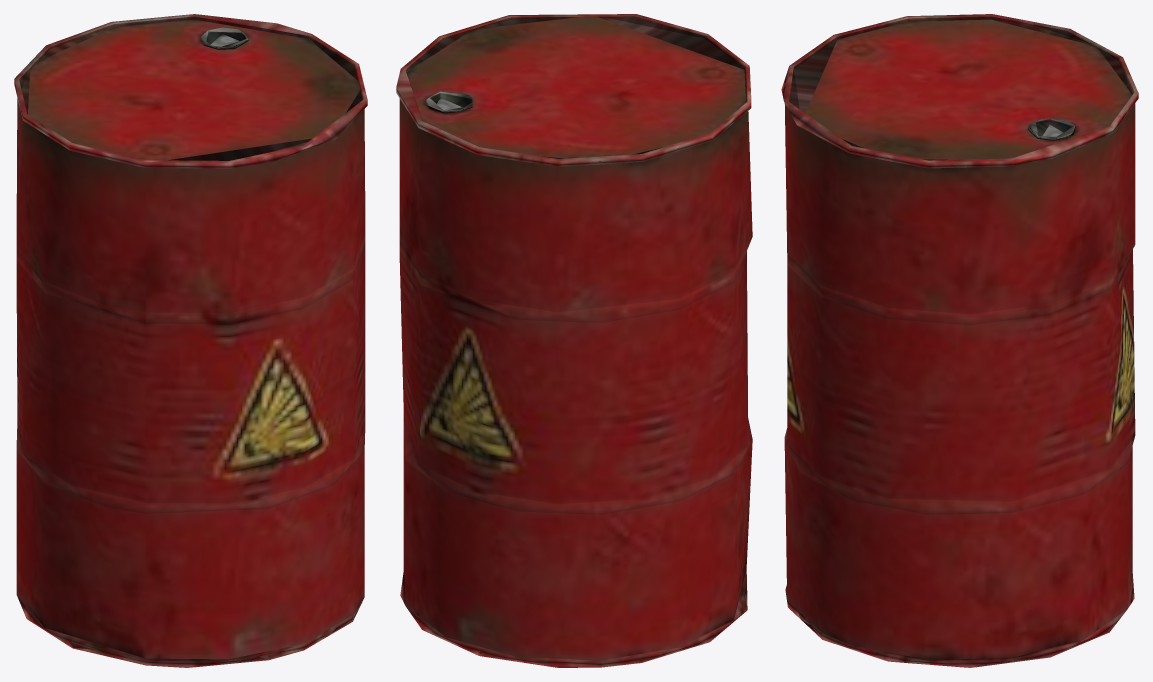
The model's file is Barrel_01.glb.
3 renders of one model, left to right at view 1: azimuth 30°, elevation 25°; view 2: azimuth 150°, elevation 25°; view 3: azimuth 270°, elevation 25°, orthographic.
Parts seen in each view (by area): view 1: Barrel_01; view 2: Barrel_01; view 3: Barrel_01.
Part boxes in pixels (x1,y1,x2,y2): Barrel_01: [14, 14, 367, 667]; Barrel_01: [396, 14, 752, 667]; Barrel_01: [781, 14, 1138, 667].
Size of the model in its own units: 0.5522 by 0.8767 by 0.5603.
Materials: 1 (1 with a texture image).
